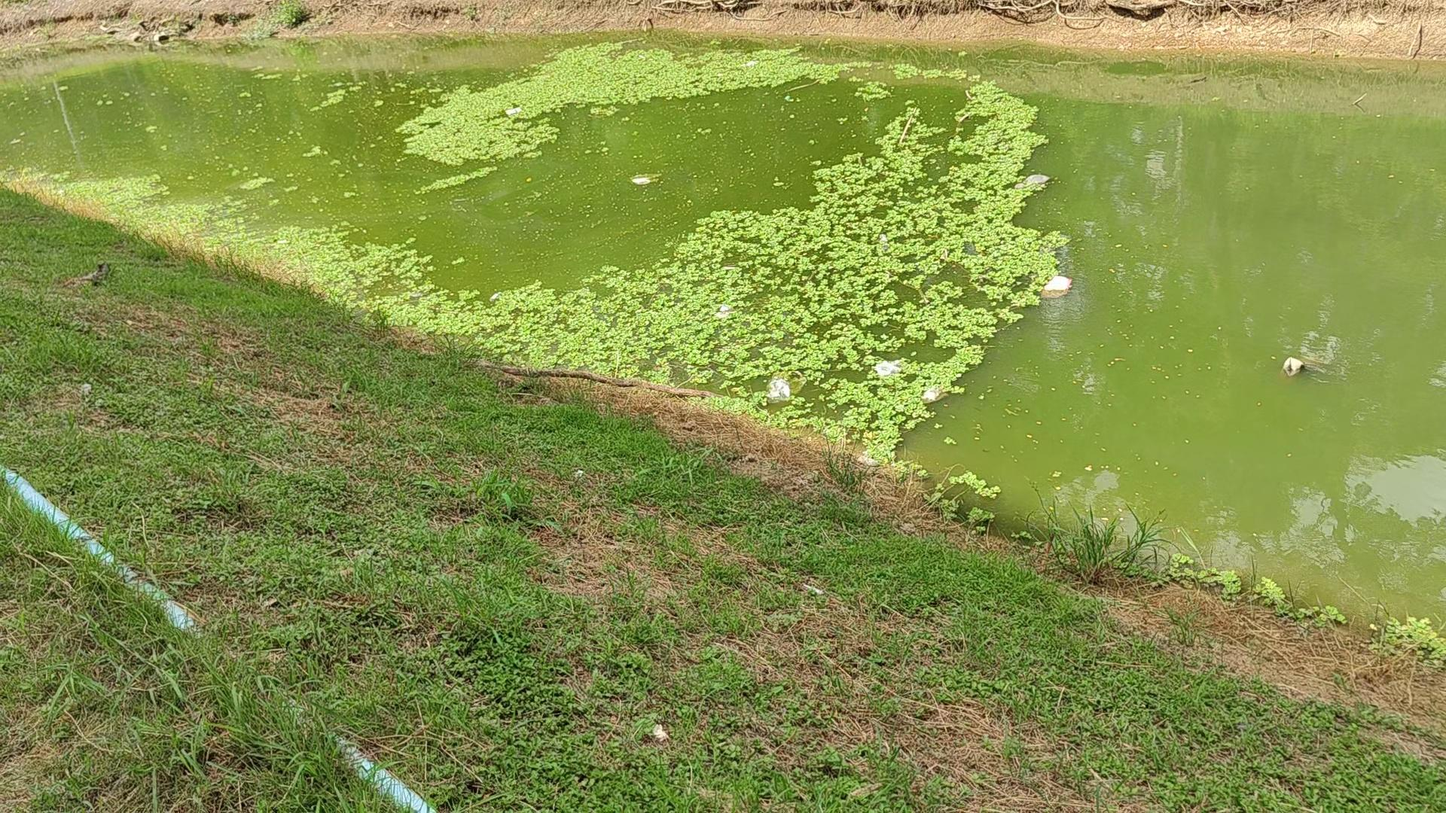trash: (765, 373, 804, 403), (1043, 275, 1072, 296), (1015, 174, 1050, 187), (875, 360, 901, 376), (1283, 357, 1304, 375), (923, 386, 943, 403), (715, 304, 733, 318), (632, 175, 656, 184), (505, 107, 522, 115), (745, 59, 758, 66), (880, 234, 887, 244)
